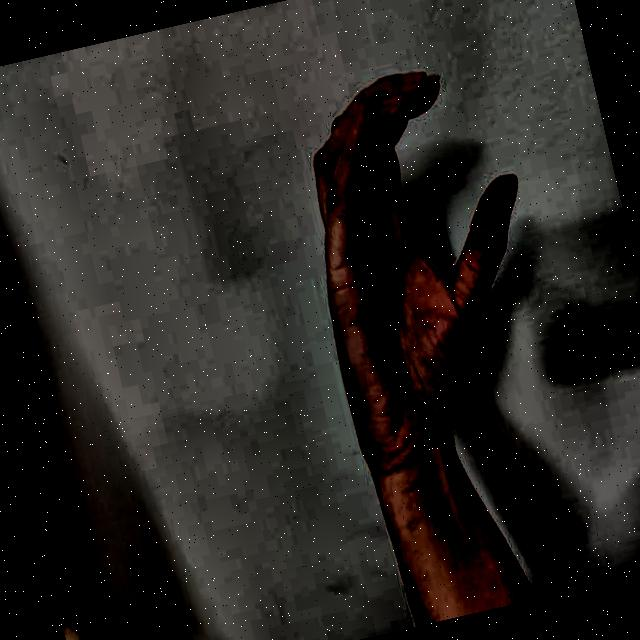A: (257, 21, 601, 507)
